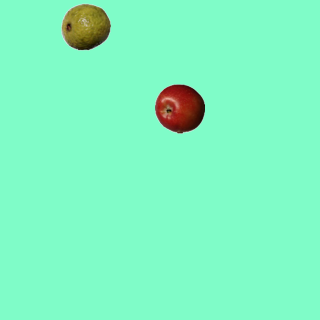Apple Braeburn: (154, 83, 204, 133)
Guava: (60, 1, 110, 51)
